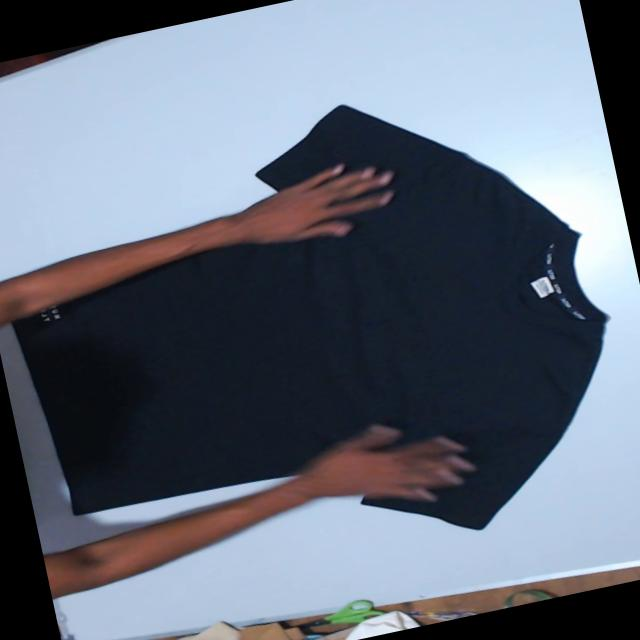new-garment: (13, 104, 604, 527)
